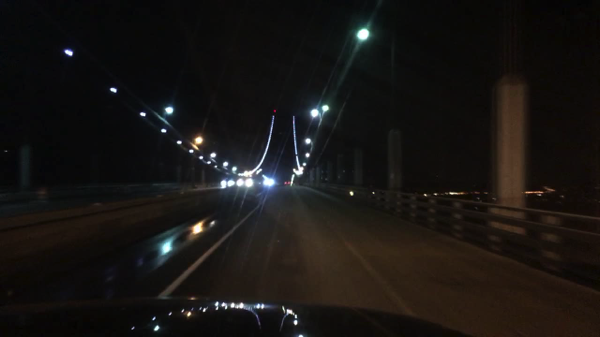car: (237, 178, 252, 187), (220, 179, 236, 187), (262, 179, 272, 185), (284, 181, 290, 185)
